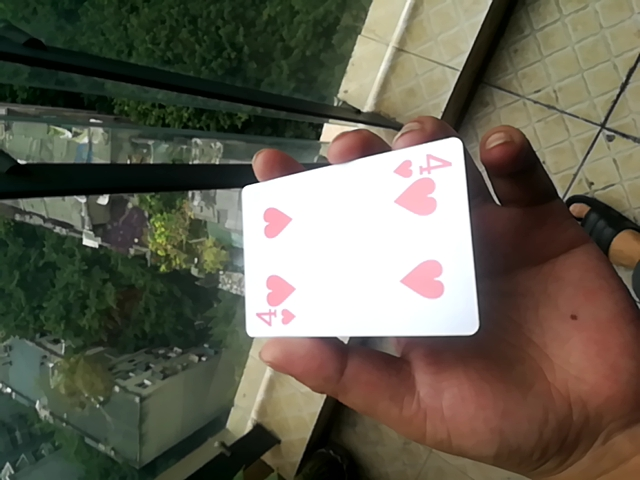hx 4: (239, 132, 485, 338)
